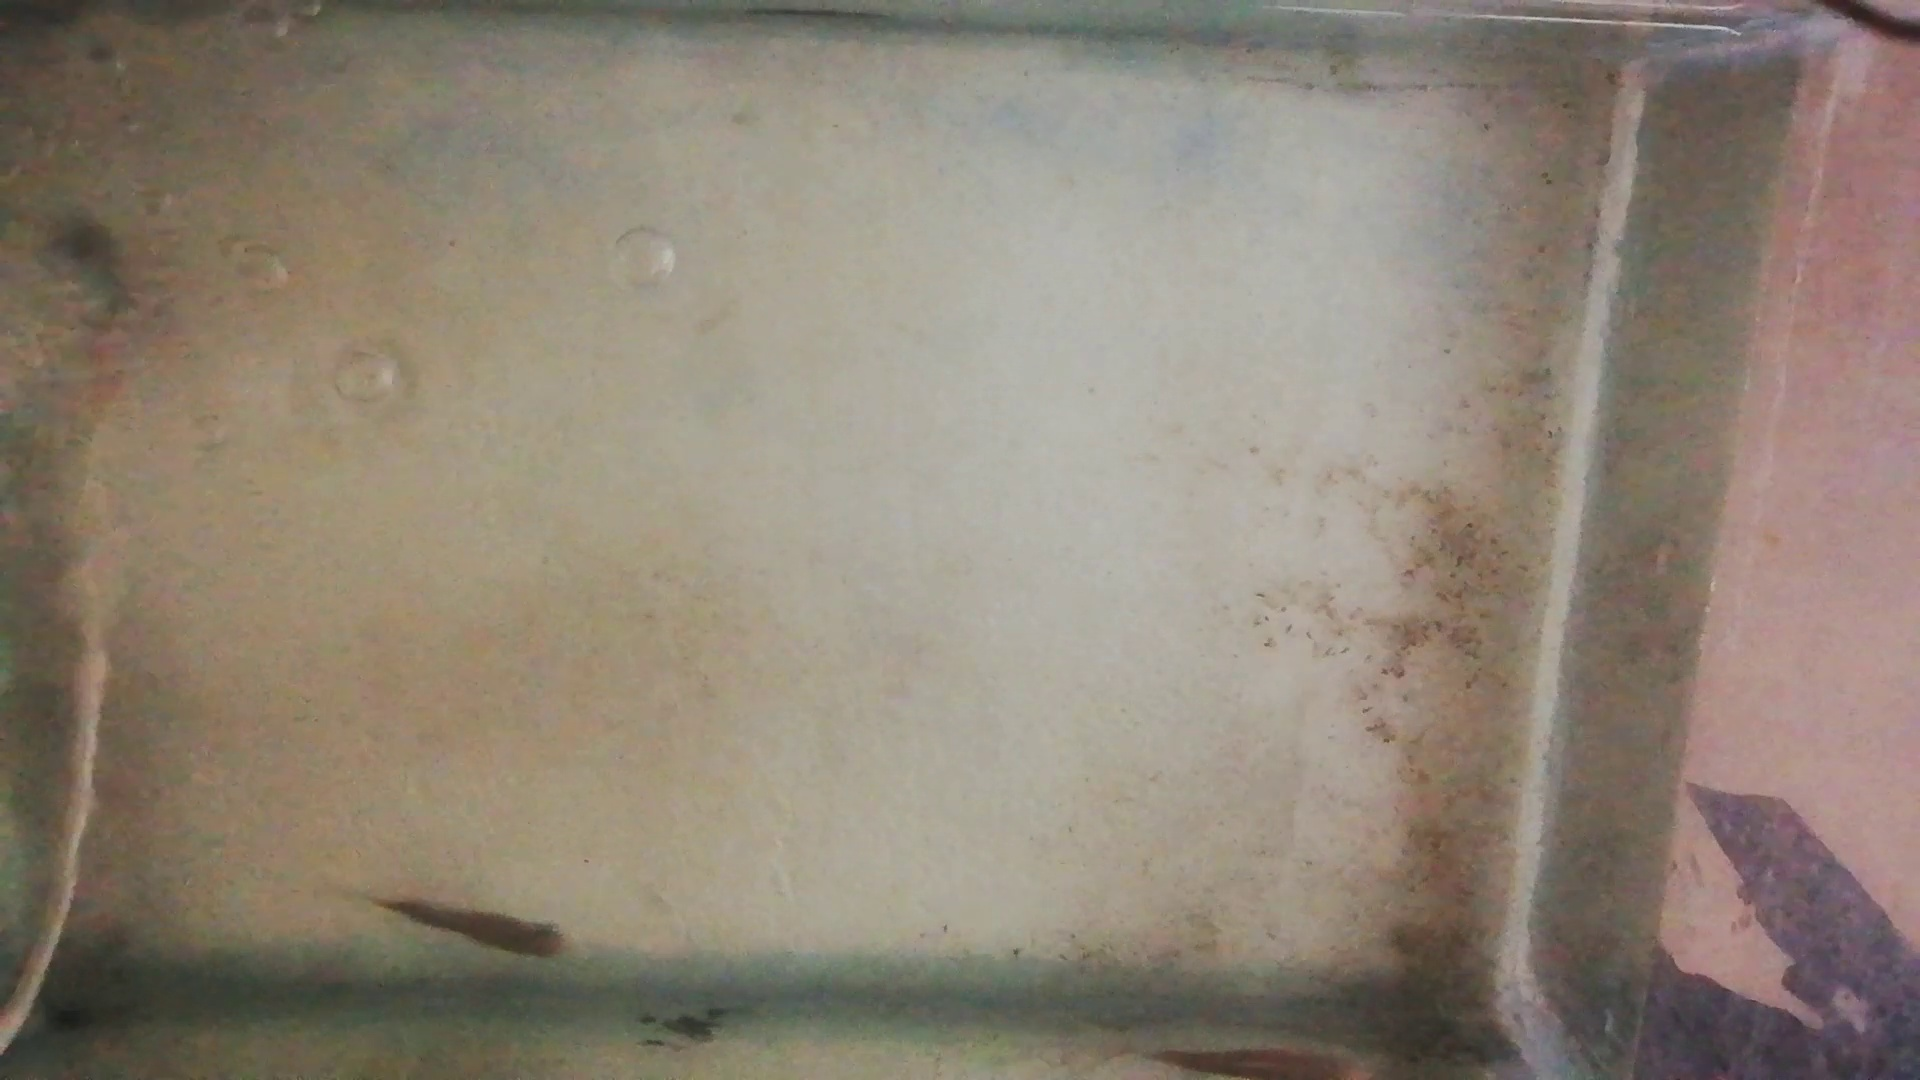fish: (363, 899, 568, 963), (1149, 1046, 1387, 1080)
